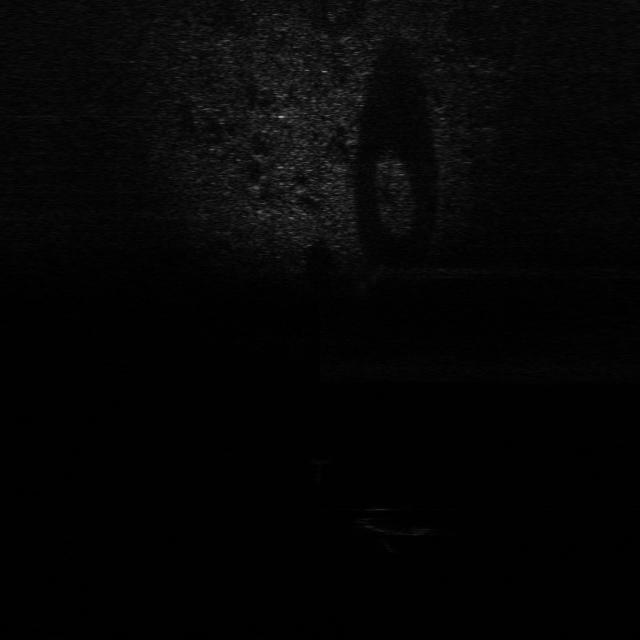ball: (298, 443, 334, 467)
tyre: (353, 500, 447, 540)
